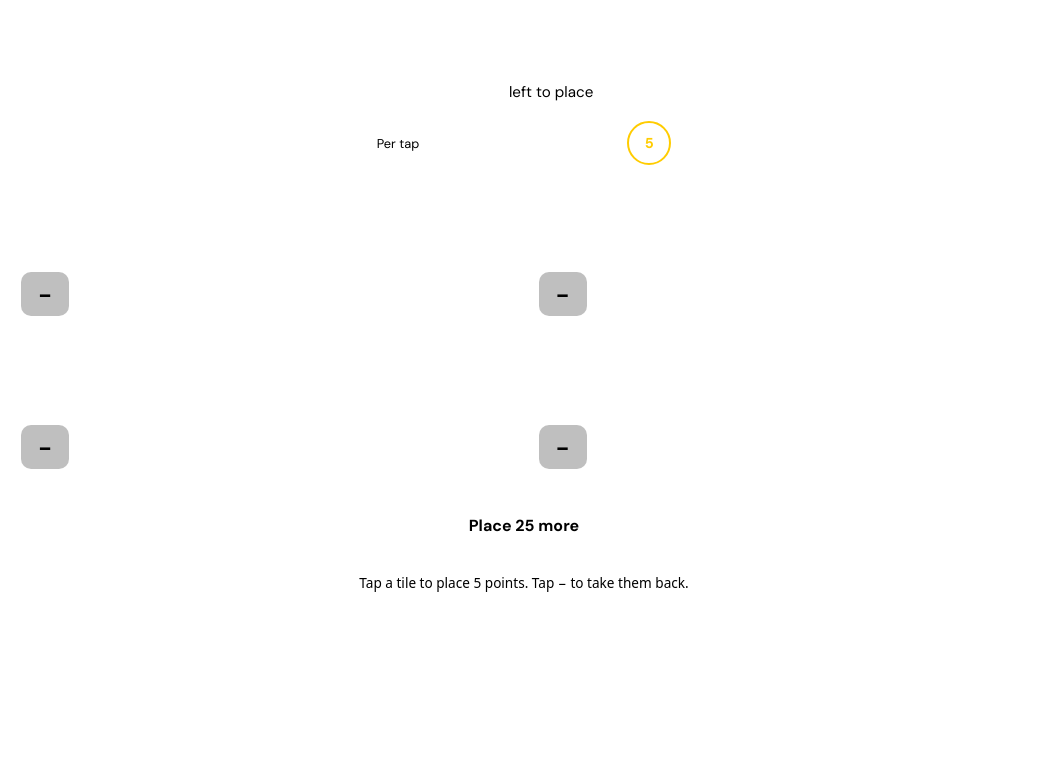
Test: <DropBoard> › autosaves the split once every point is placed, so a forgotten Lock In does not score 0
The width and height of the screenshot is (1048, 780).
Click the button with aria-label "Add 5 points to Tile a".
click(265, 254)  # box 13,184 -> 517,324
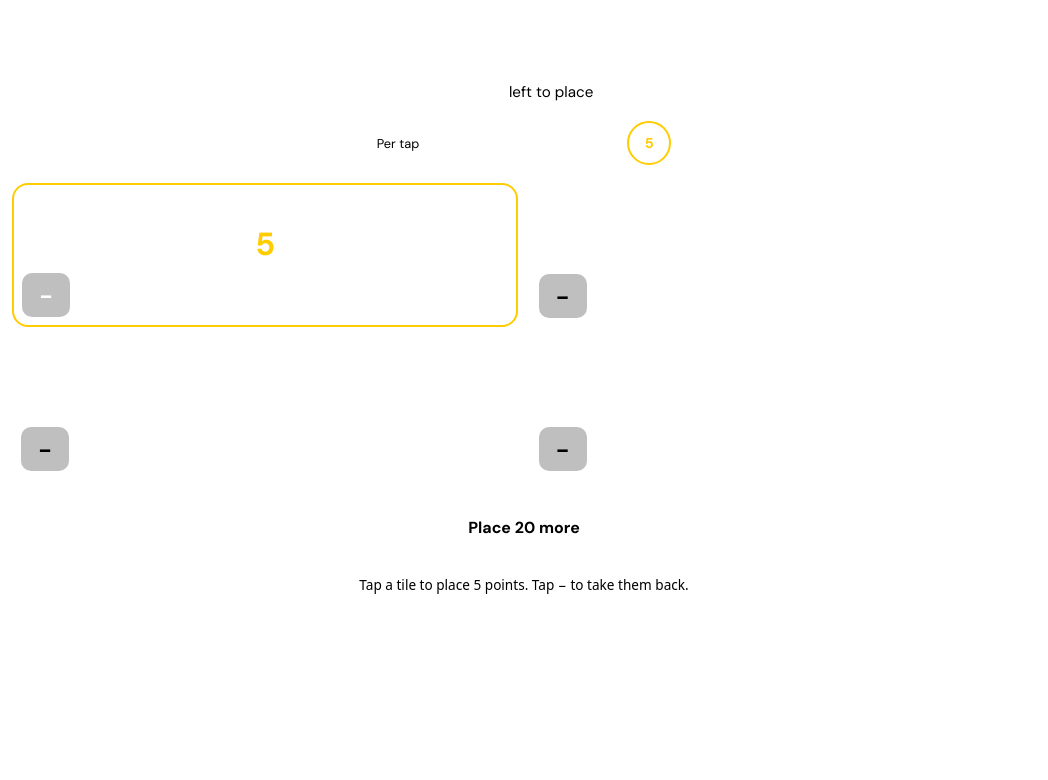
Click the button with aria-label "Add 5 points to Tile a".
click(265, 255)  # box 14,185 -> 516,325
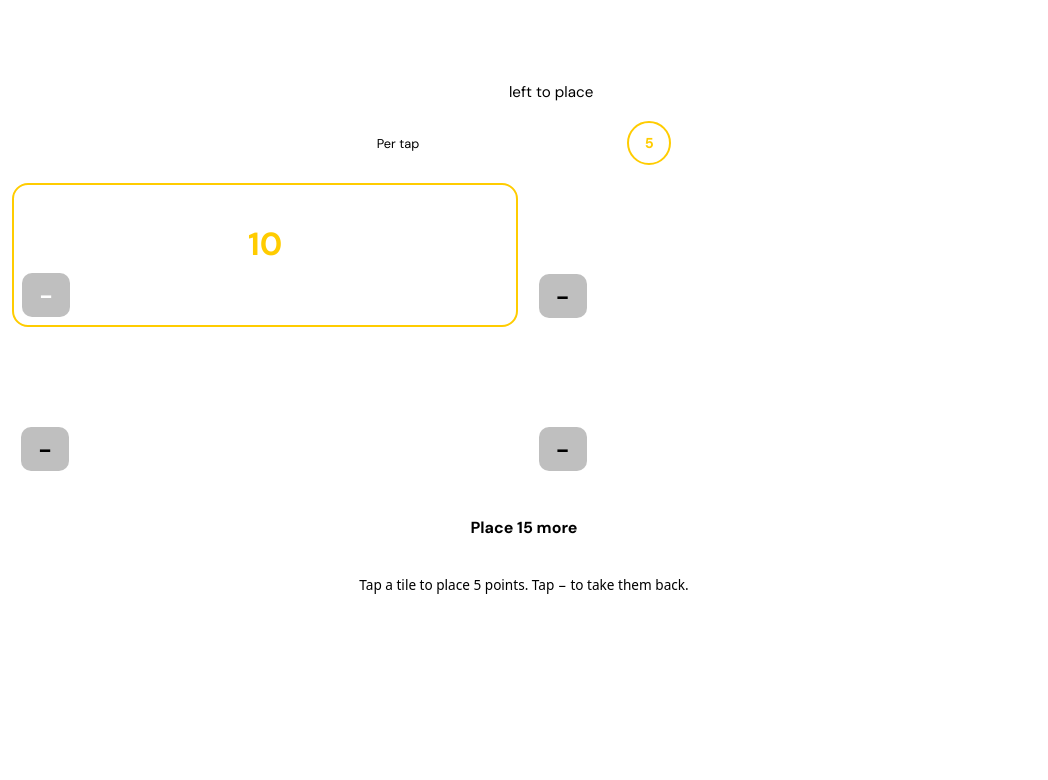
Click the button with aria-label "Add 5 points to Tile a".
click(265, 255)  # box 14,185 -> 516,325
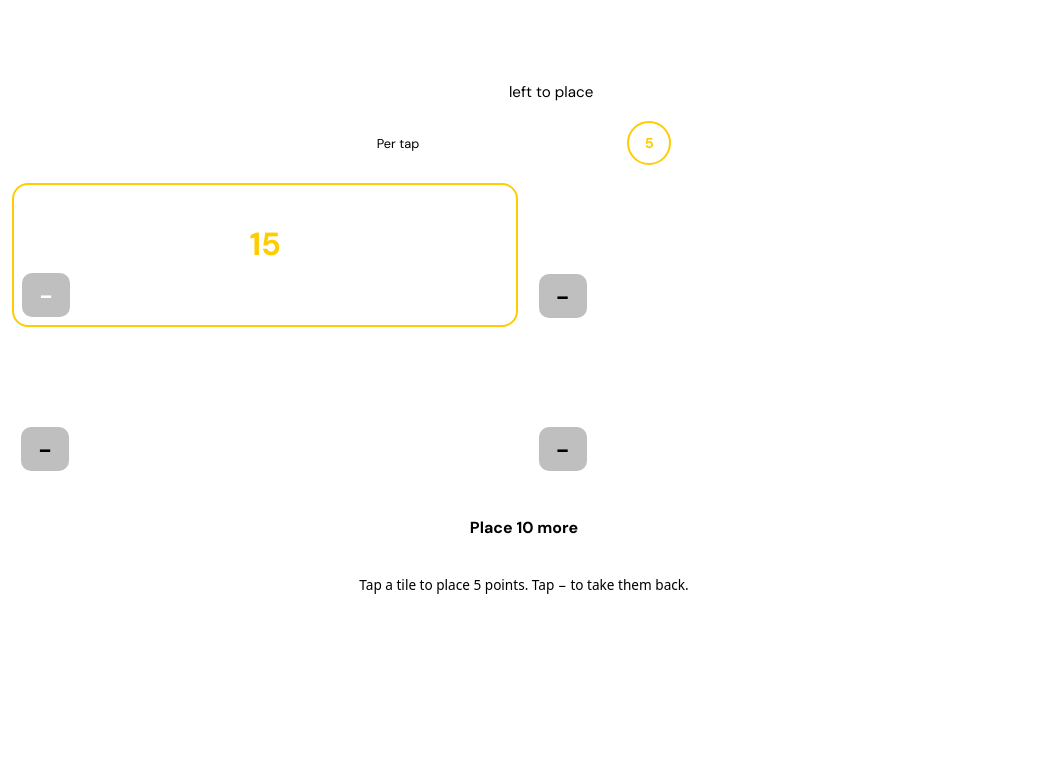
Click the button with aria-label "Add 5 points to Tile a".
click(265, 255)  # box 14,185 -> 516,325
Wait 3000 ms
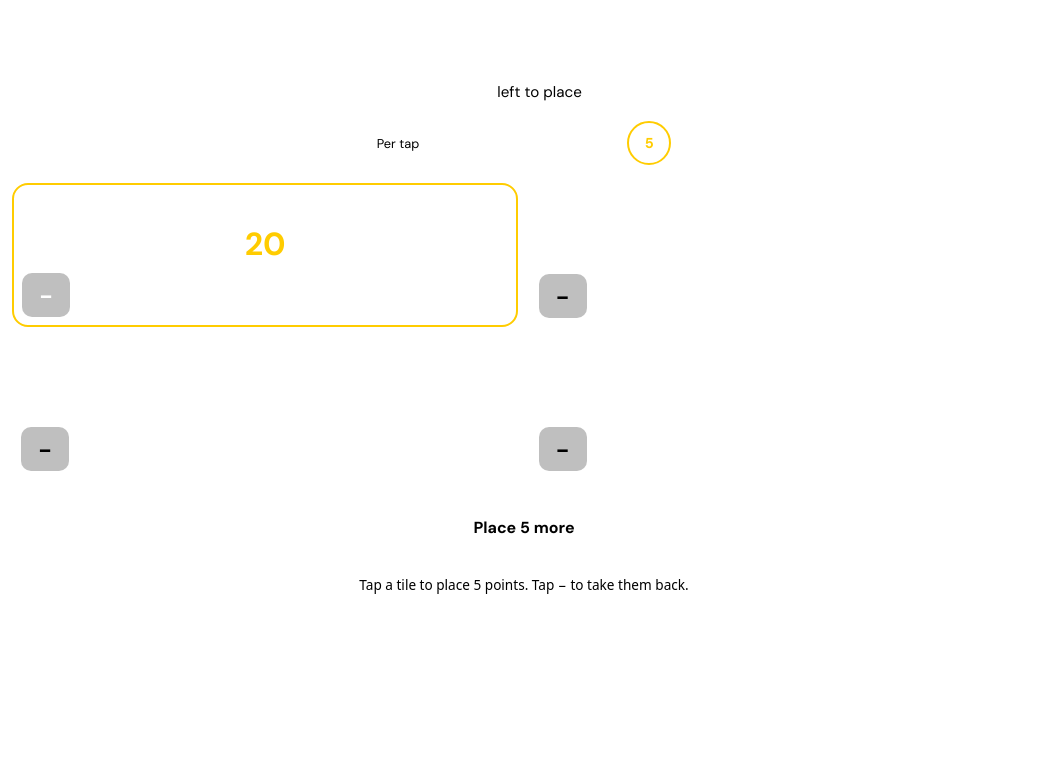
Click the button with aria-label "Add 5 points to Tile a".
click(265, 255)  # box 14,185 -> 516,325
Wait 900 ms
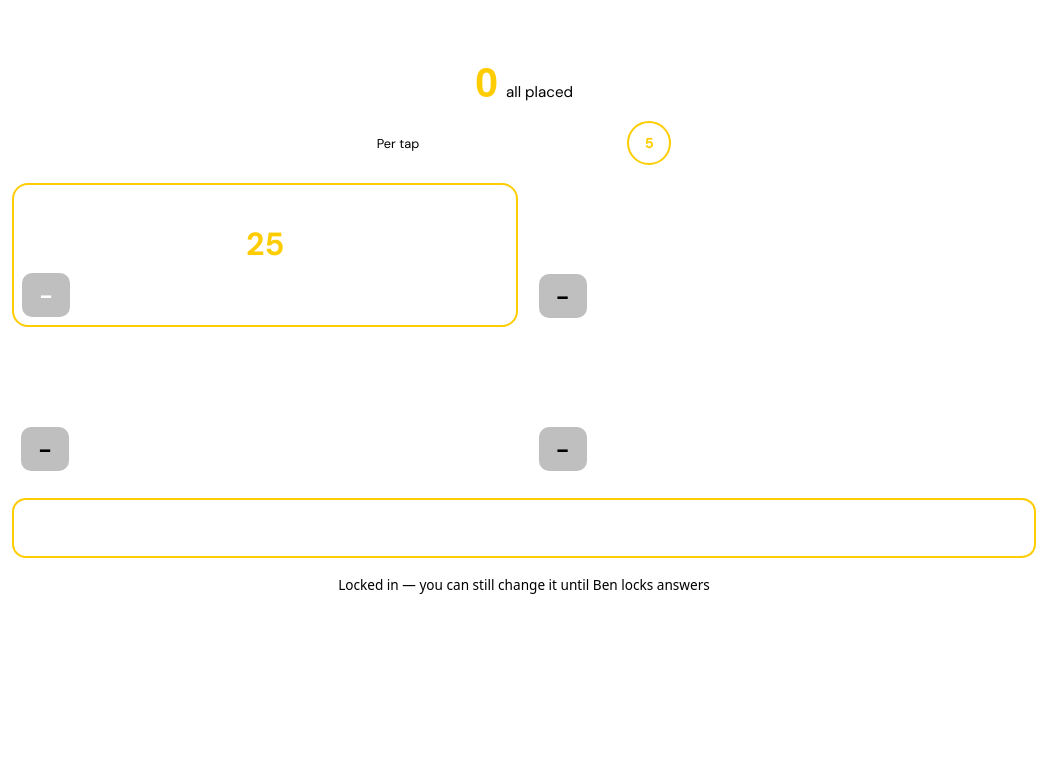
Check: the button "Split Locked" is shown, box 12,498 -> 1036,558
